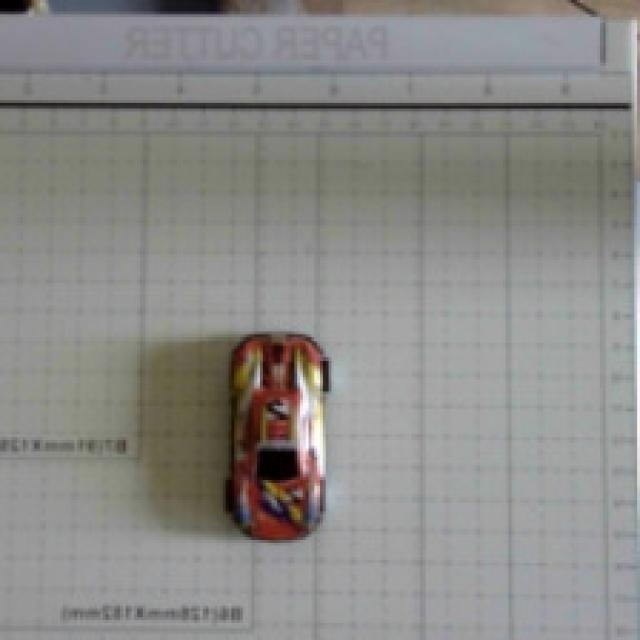Red Car: (192, 273, 362, 568)
